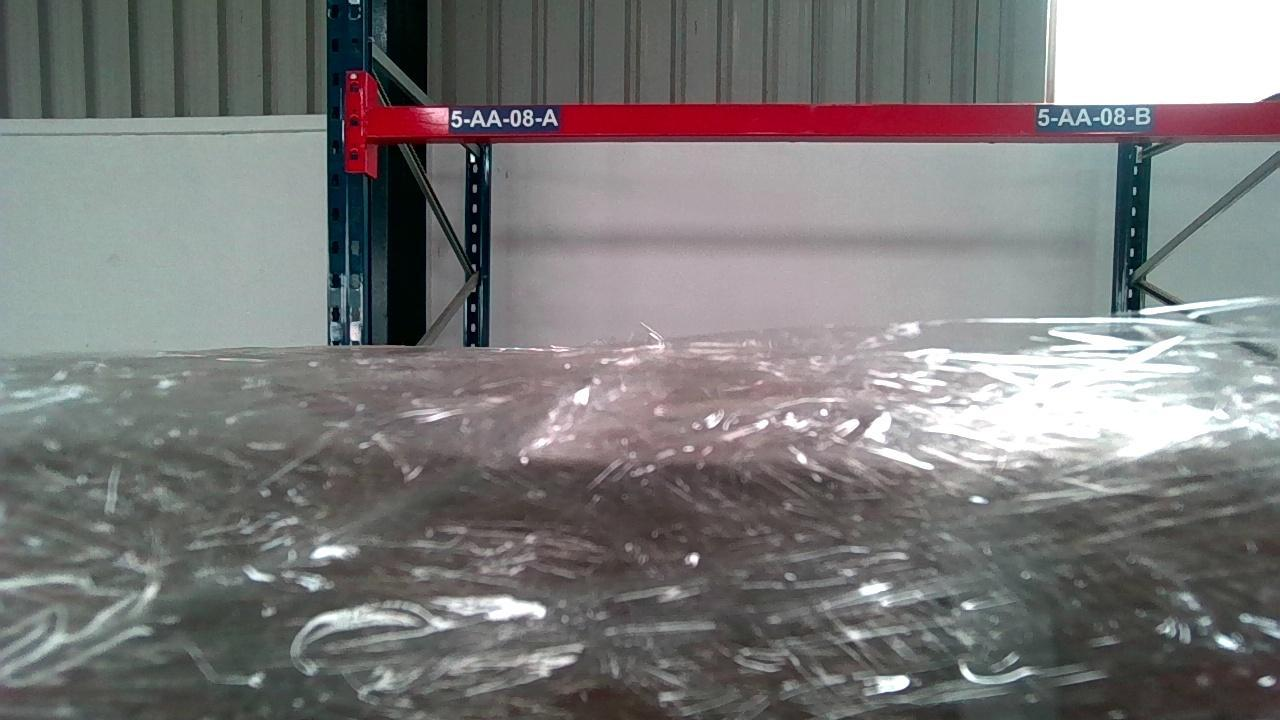h_rack: (364, 100, 1279, 136)
